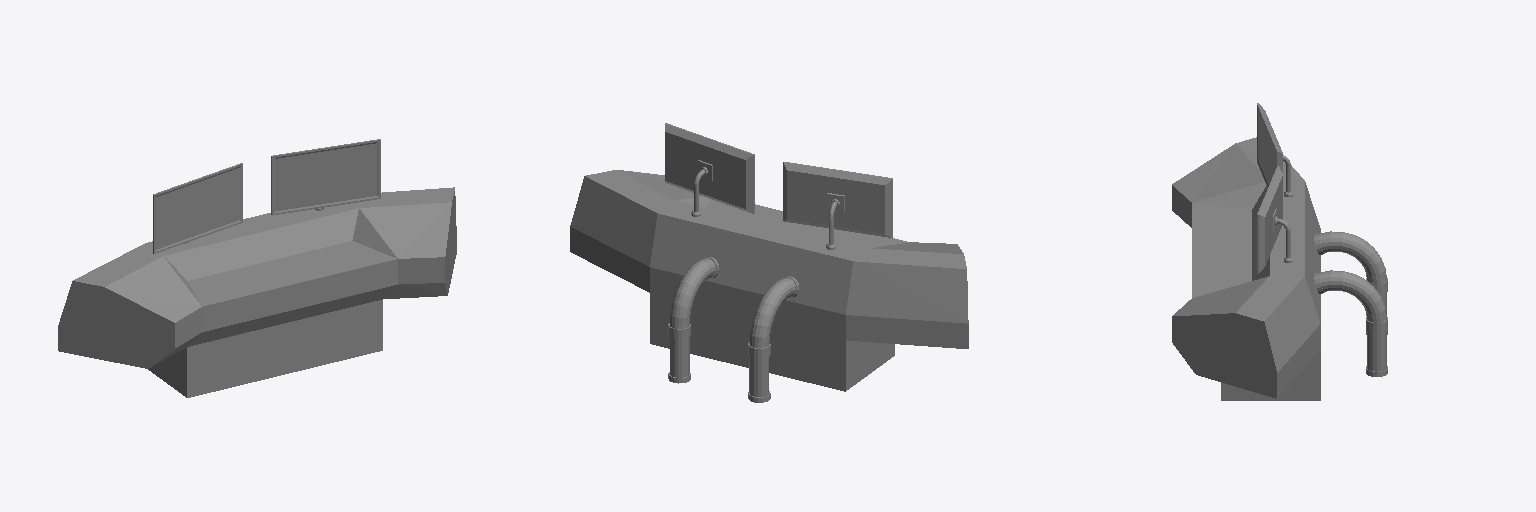
Rendered from ControlTerminal.obj.
3 views of the same model, side by side, from view 1: azimuth 30°, elevation 25°; view 2: azimuth 150°, elevation 25°; view 3: azimuth 270°, elevation 25° (orthographic).
Parts seen in each view (by area): view 1: SM_ControlTerminal_E; view 2: SM_ControlTerminal_E; view 3: SM_ControlTerminal_E.
Part boxes in pixels (left/top/right/bottom): SM_ControlTerminal_E: left=58, top=139, right=456, bottom=397; SM_ControlTerminal_E: left=570, top=123, right=968, bottom=402; SM_ControlTerminal_E: left=1172, top=103, right=1387, bottom=400.
Bounding box in the file's own units: 160 × 74.56 × 75.41.